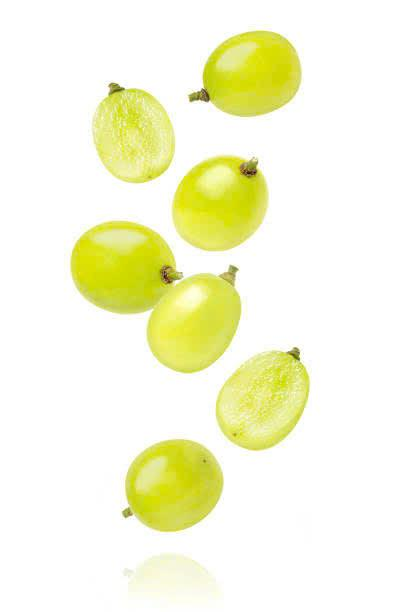grape: (69, 213, 255, 366), (220, 337, 316, 479), (179, 33, 323, 127), (94, 80, 178, 211)
